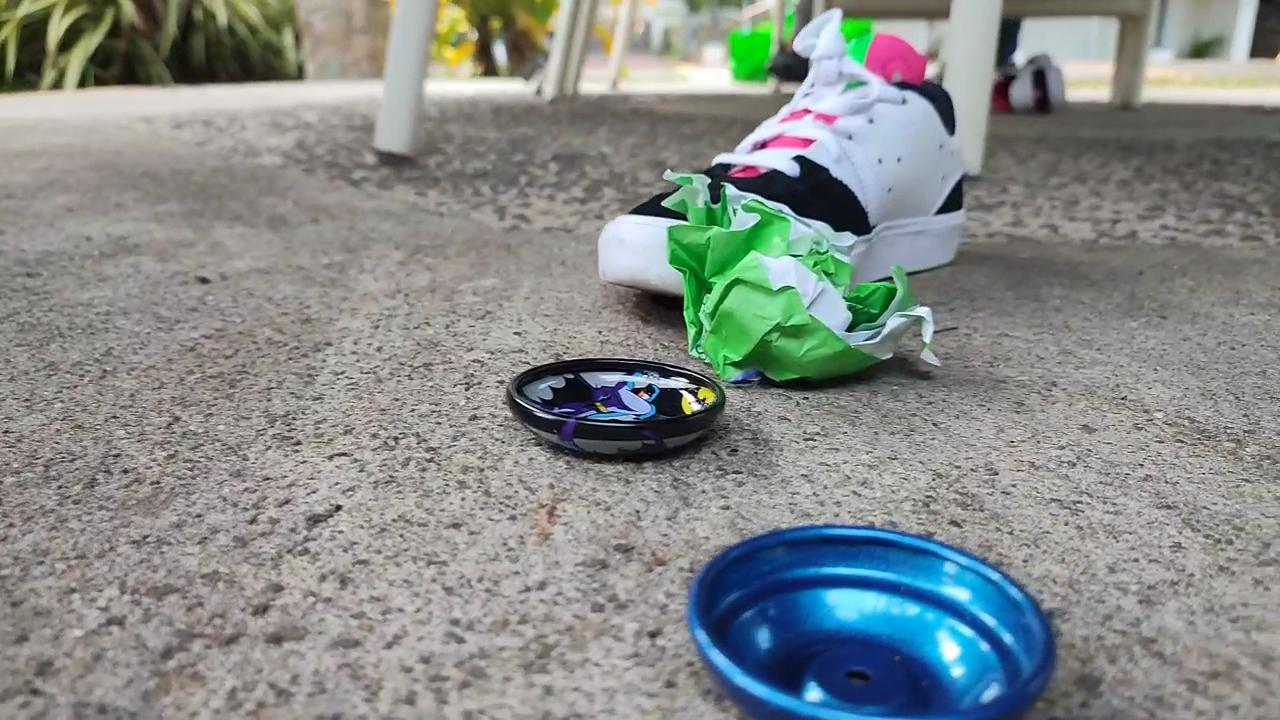Paper: (652, 169, 958, 399)
